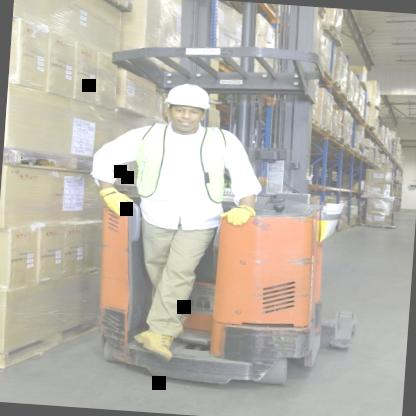helmet: (158, 80, 216, 134)
